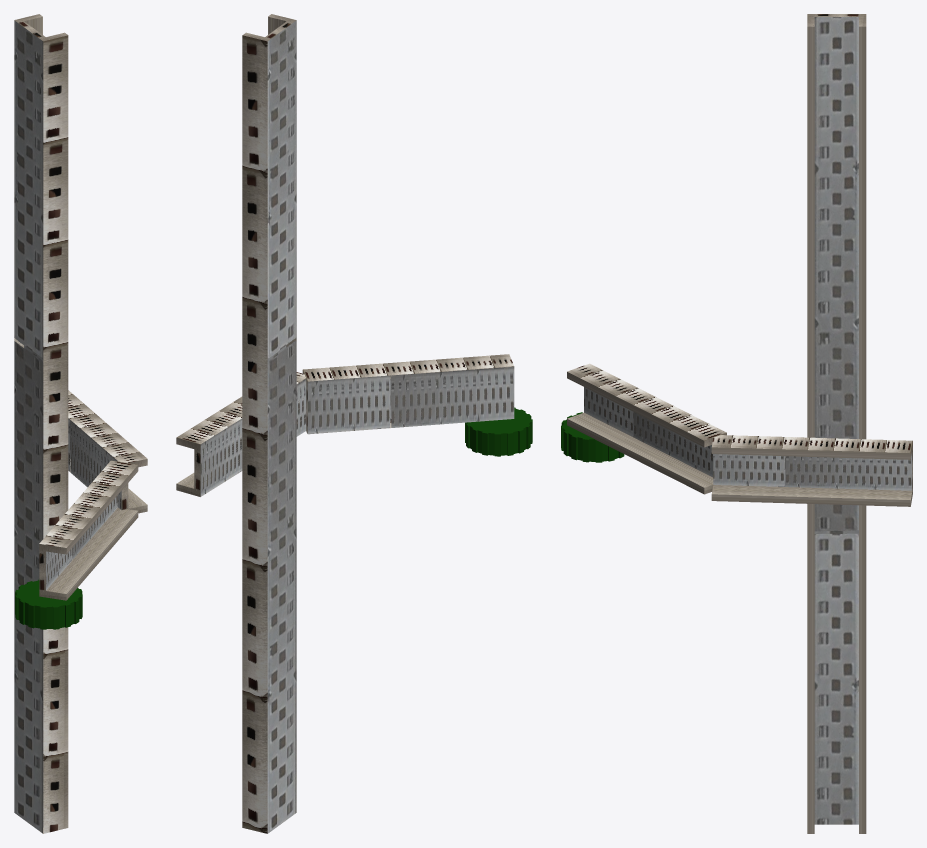
File: right_claw.fbx
The picture shows the model from 3 angles, left to right: view 1: azimuth 30°, elevation 25°; view 2: azimuth 150°, elevation 25°; view 3: azimuth 270°, elevation 25°; orthographic projection.
Visible parts, largest first — view 1: Right claw.002; view 2: Right claw.002; view 3: Right claw.002.
Boxes of the visible parts, bbox=[...] form: Right claw.002: bbox=[14, 14, 147, 833]; Right claw.002: bbox=[176, 14, 532, 833]; Right claw.002: bbox=[561, 14, 912, 833].
Bounding box in the file's own units: 782 × 3007 × 1187.
Materials: 7 (6 with a texture image).
